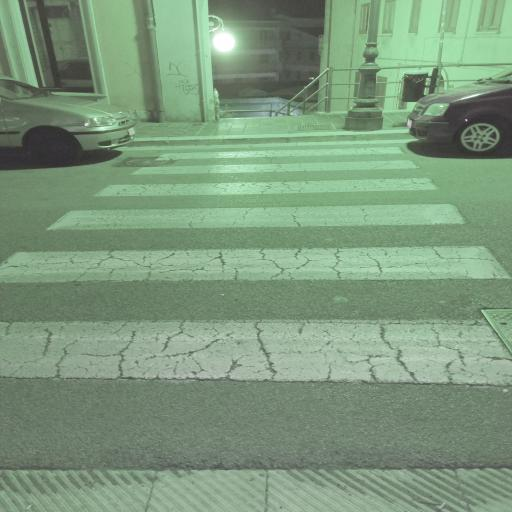crosswalk: (36, 174, 474, 238)
